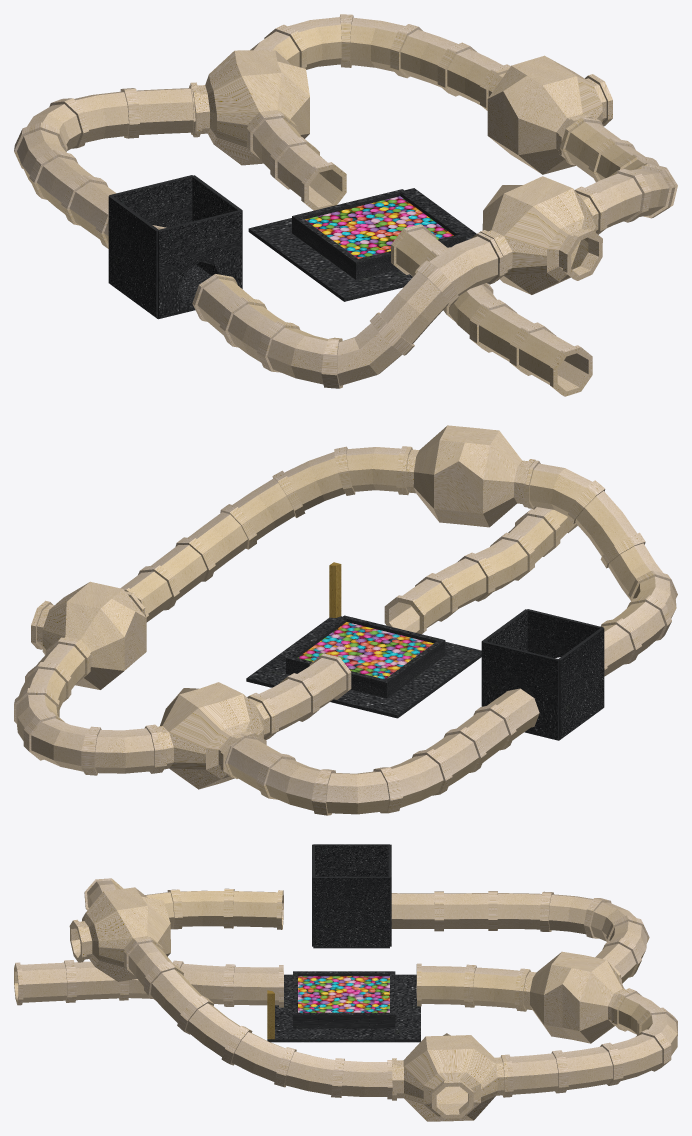
Rendered from test2_modul.glb.
3 renders of one model, top to bottom at view 1: azimuth 30°, elevation 25°; view 2: azimuth 150°, elevation 25°; view 3: azimuth 270°, elevation 25°, orthographic. The views are drawn at different scales.
Visible parts, largest first — view 1: tuillot.004, tuillot.003, picine_boulle.001, tuillot.002, tuillot_hub.003, tuillot_hub.002, tuillot.006, tuillot_hub.001, tuillot.005, tile.043, tuillot.001, tile.032 (+3 smaller); view 2: tuillot.003, tuillot.005, picine_boulle.001, tuillot.004, tuillot.002, tuillot_hub.003, tuillot.006, tuillot_hub.001, tuillot_hub.002, tile.041, tuillot.001, tile.032 (+3 smaller); view 3: tuillot.005, tuillot.003, picine_boulle.001, tuillot.002, tuillot.006, tuillot_hub.002, tuillot_hub.001, tuillot_hub.003, tile.042, tuillot.004, tuillot.001, tile.032.
Boxes of the visible parts, <box> form: tuillot.004: <box>192,232,504,388</box>; tuillot.003: <box>14,85,197,248</box>; picine_boulle.001: <box>248,188,476,301</box>; tuillot.002: <box>250,14,510,110</box>; tuillot_hub.003: <box>479,176,604,294</box>; tuillot_hub.002: <box>483,55,612,174</box>; tuillot.006: <box>391,224,592,396</box>; tuillot_hub.001: <box>190,50,309,165</box>; tuillot.005: <box>560,117,677,234</box>; tile.043: <box>158,210,241,318</box>; tuillot.001: <box>248,113,346,210</box>; tile.032: <box>108,195,159,317</box>; tuillot.003: <box>225,688,539,815</box>; tuillot.005: <box>120,446,407,622</box>; picine_boulle.001: <box>246,615,481,718</box>; tuillot.004: <box>524,460,677,676</box>; tuillot.002: <box>14,639,160,775</box>; tuillot_hub.003: <box>400,425,535,527</box>; tuillot.006: <box>384,506,577,634</box>; tuillot_hub.001: <box>151,682,275,789</box>; tuillot_hub.002: <box>31,581,146,689</box>; tile.041: <box>482,641,559,739</box>; tuillot.001: <box>252,653,351,739</box>; tile.032: <box>559,627,604,739</box>; tuillot.005: <box>125,938,392,1099</box>; tuillot.003: <box>391,891,649,983</box>; picine_boulle.001: <box>267,971,420,1042</box>; tuillot.002: <box>505,989,677,1097</box>; tuillot.006: <box>14,960,283,1007</box>; tuillot_hub.002: <box>392,1033,509,1121</box>; tuillot_hub.001: <box>519,951,632,1043</box>; tuillot_hub.003: <box>69,887,170,981</box>; tile.042: <box>313,876,389,947</box>; tuillot.004: <box>84,878,283,929</box>; tuillot.001: <box>416,963,525,1011</box>; tile.032: <box>313,844,389,876</box>.
Size of the model in its own units: 64.04 by 19.35 by 86.54.
4 materials, 4 textured.
